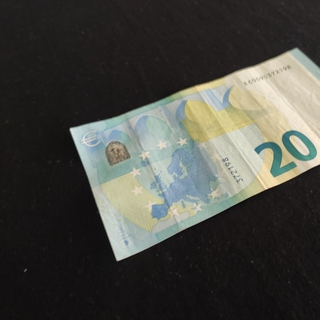20EUROBack: (69, 47, 320, 262)
